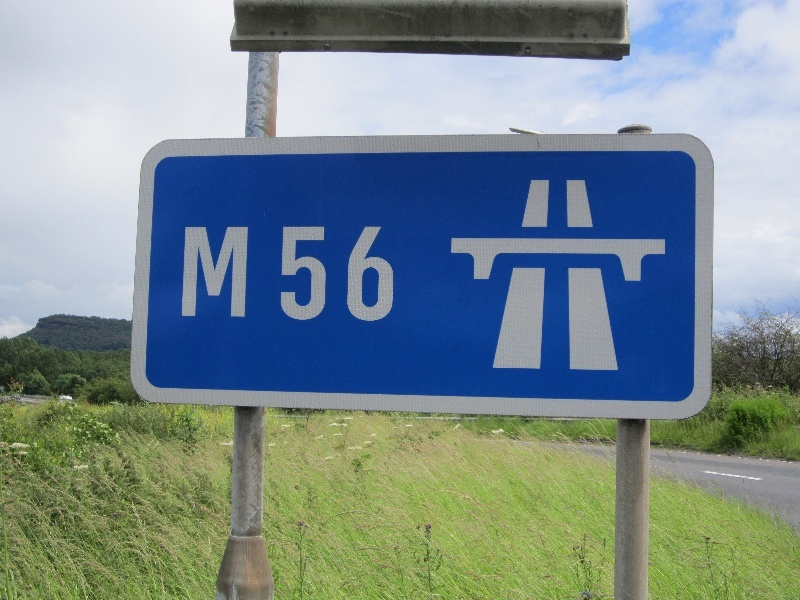text: (289, 227, 304, 322), (305, 227, 320, 322), (321, 227, 336, 322), (337, 227, 352, 322), (353, 227, 368, 322), (369, 227, 384, 322), (193, 226, 208, 317), (209, 226, 224, 317), (225, 226, 240, 317), (385, 227, 394, 322), (241, 226, 249, 317), (185, 226, 192, 317), (283, 227, 288, 322)
